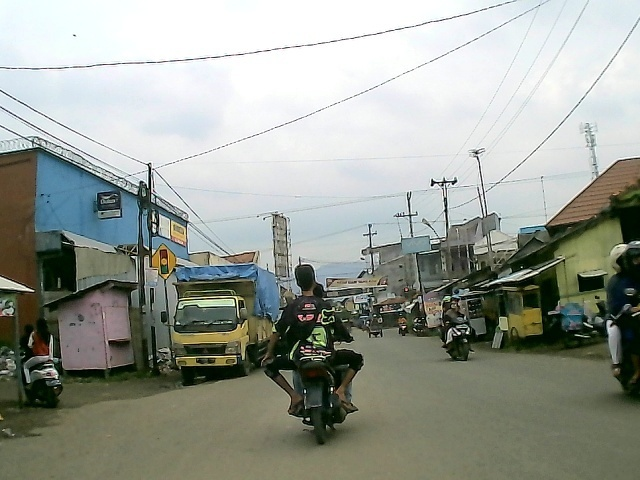Lampu isyarat: (146, 242, 179, 280)
